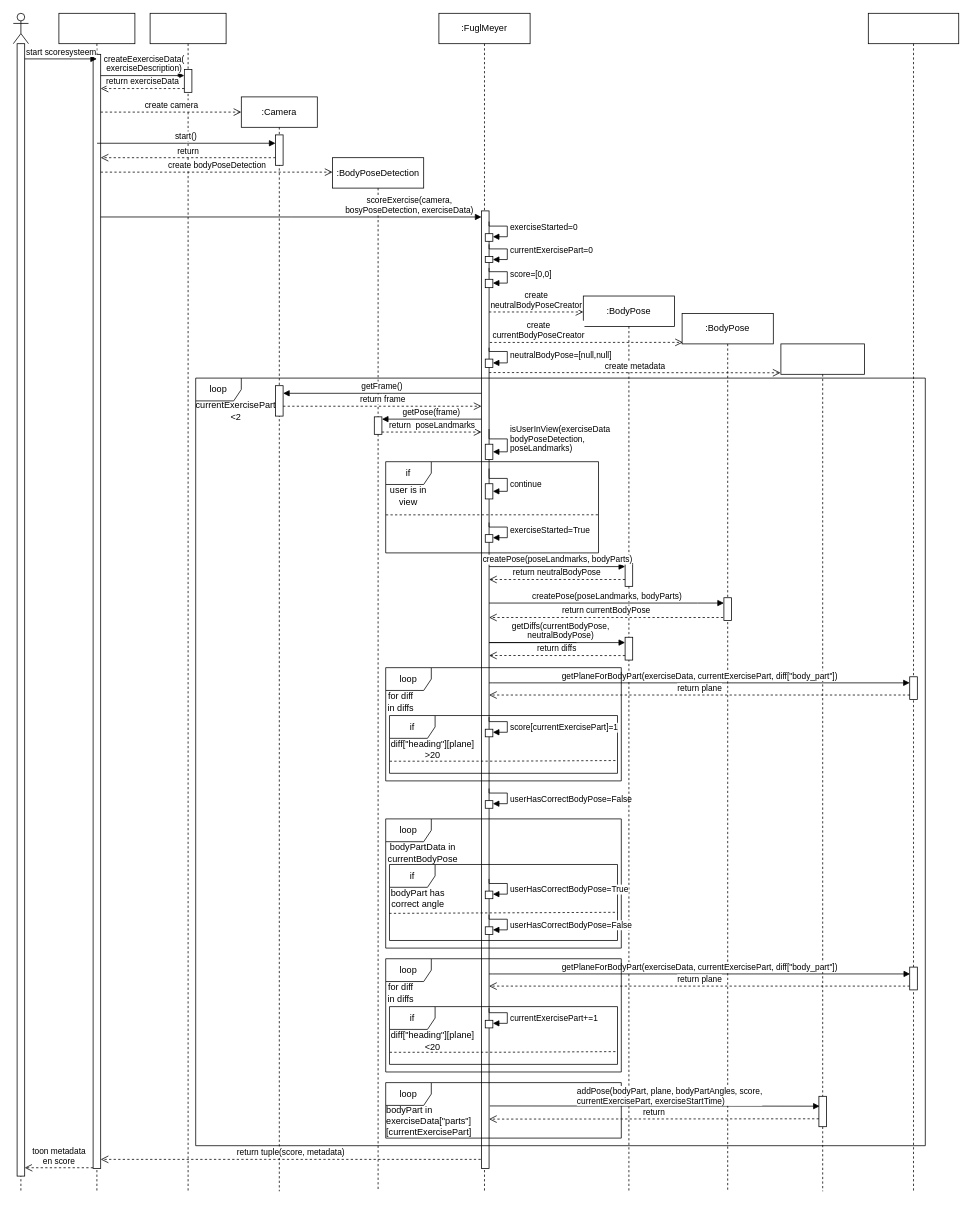
The diagram is 972 pixels wide and 1205 high, and some of its shapes have lost their labels. Here are the shapes that lost their labels. From the top down, the box of each, then its label:
(58, 13, 135, 1191): :main
(149, 13, 226, 1191): :ExerciseCreator
(868, 13, 959, 1191): :ExerciseDataReader
(780, 343, 864, 1191): :BodyPoseMetadata
